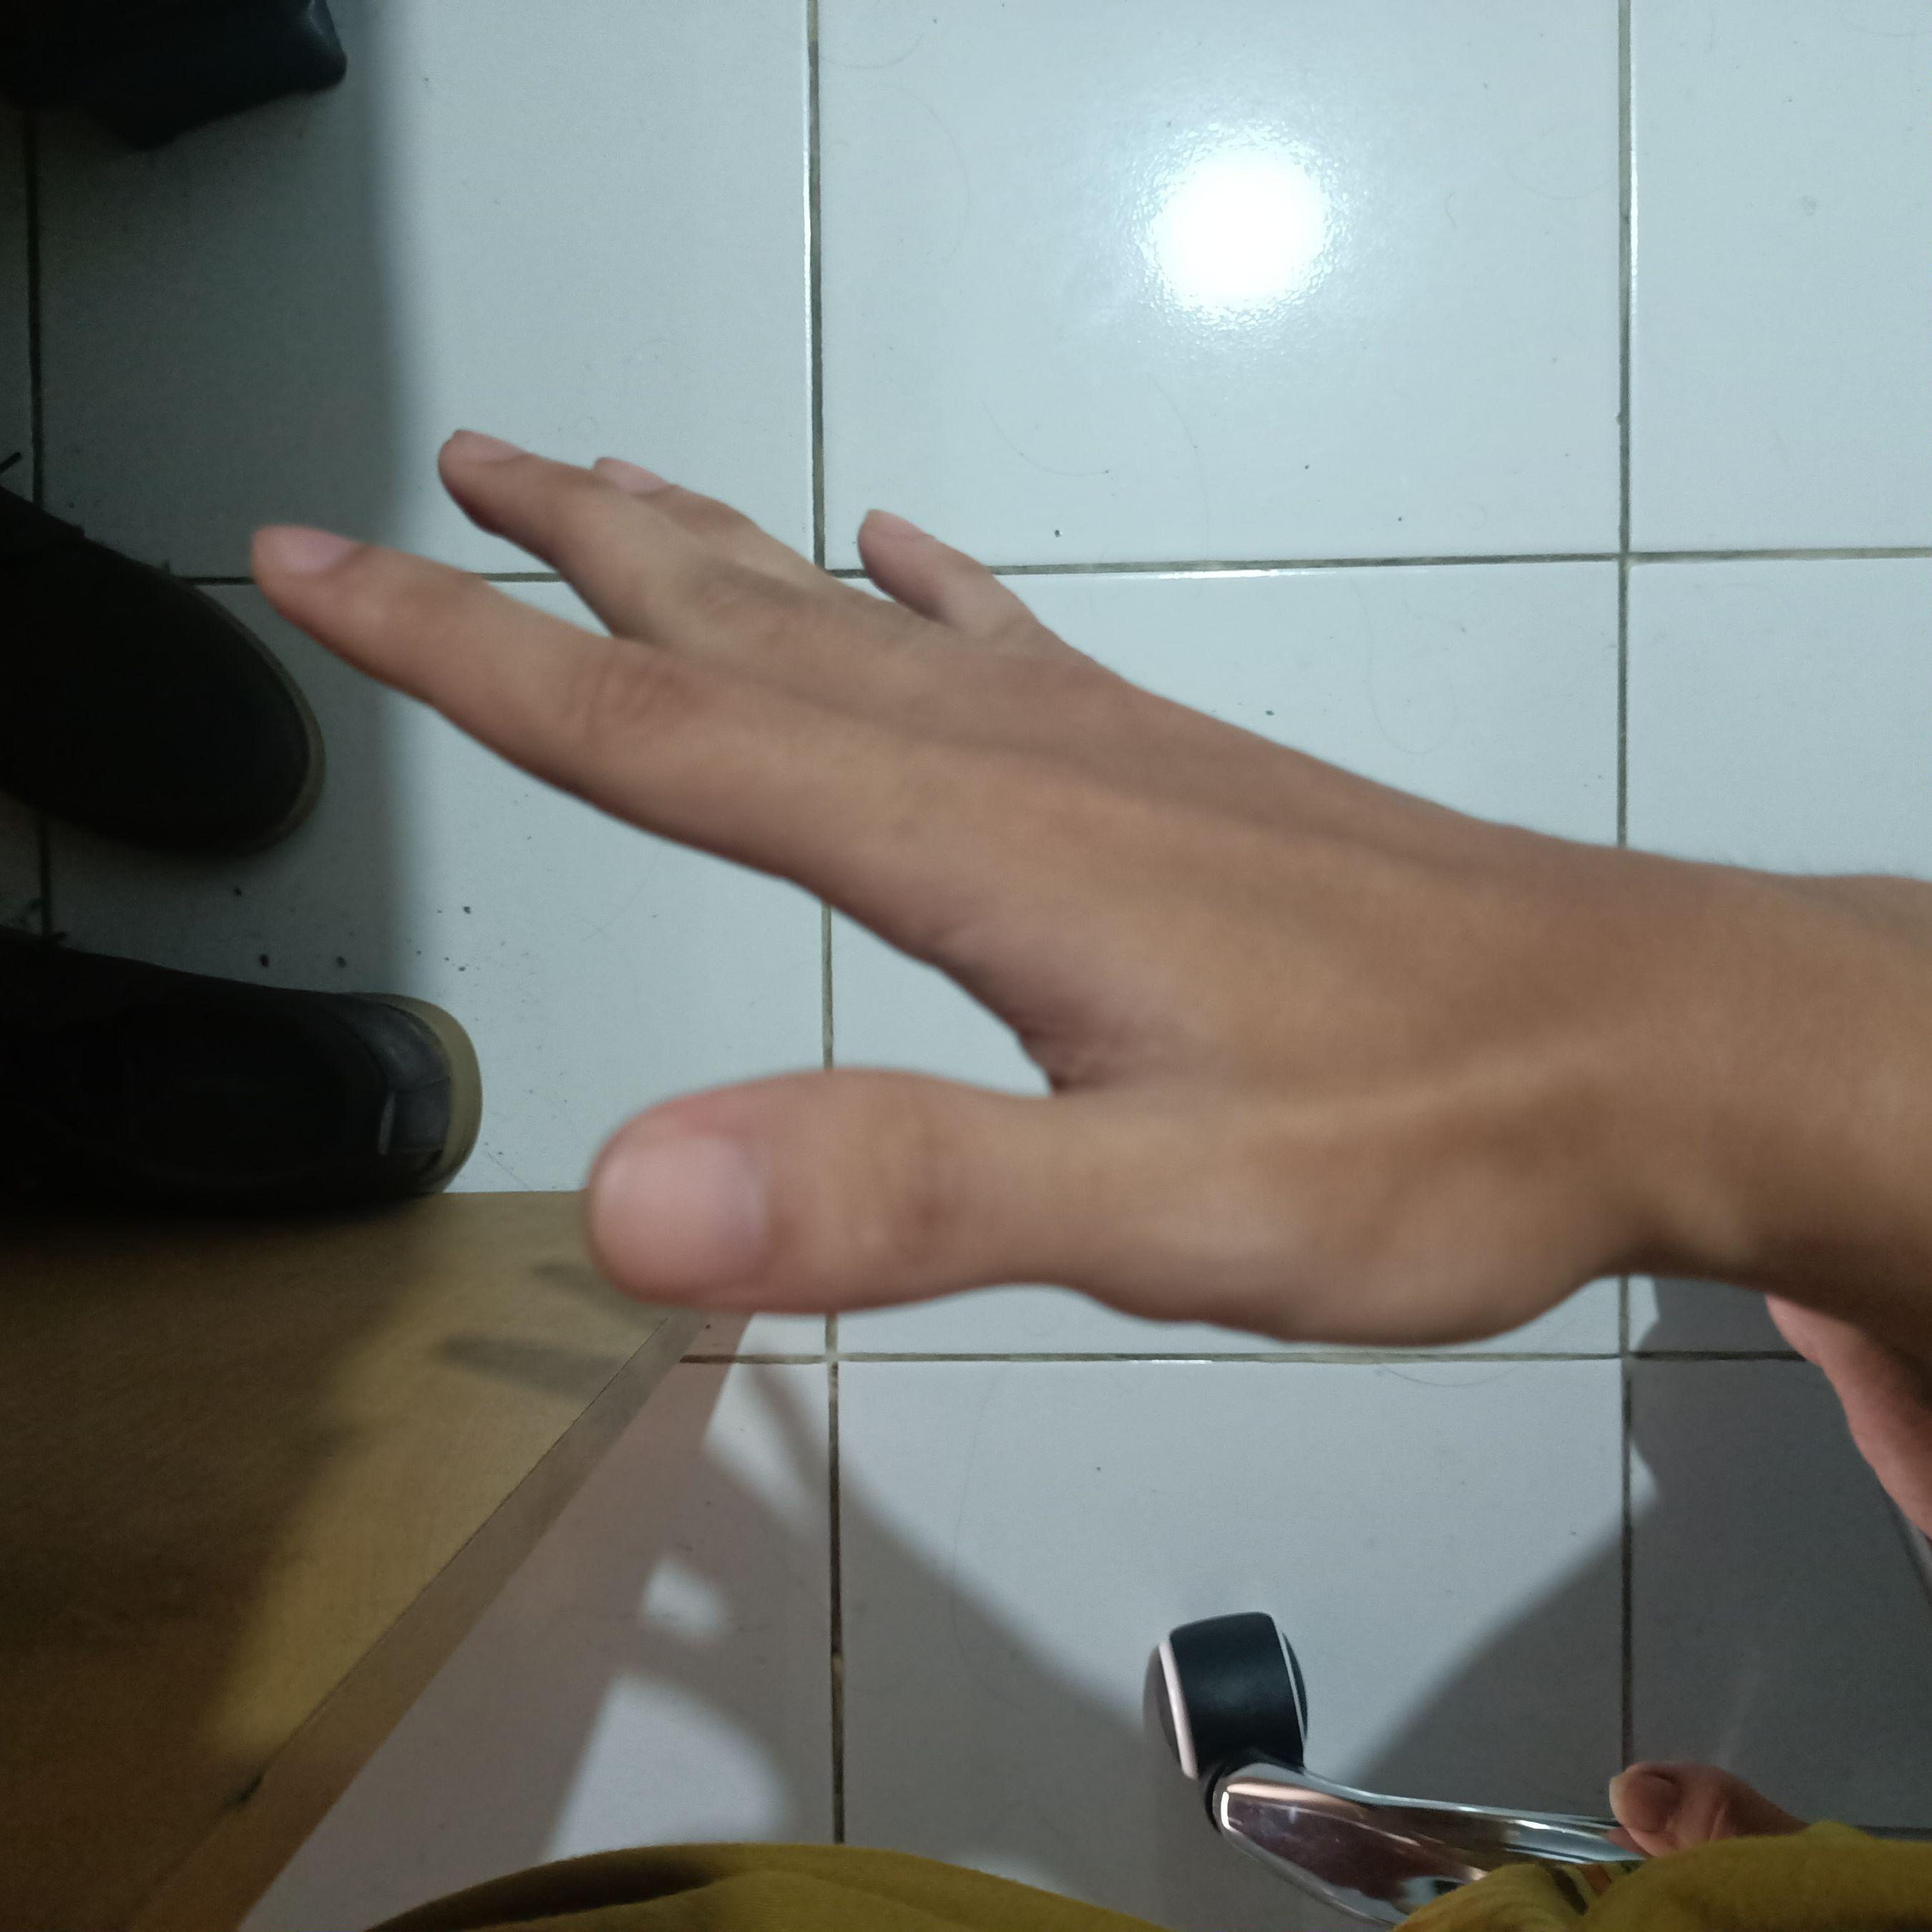paper: (216, 430, 1652, 1376)
